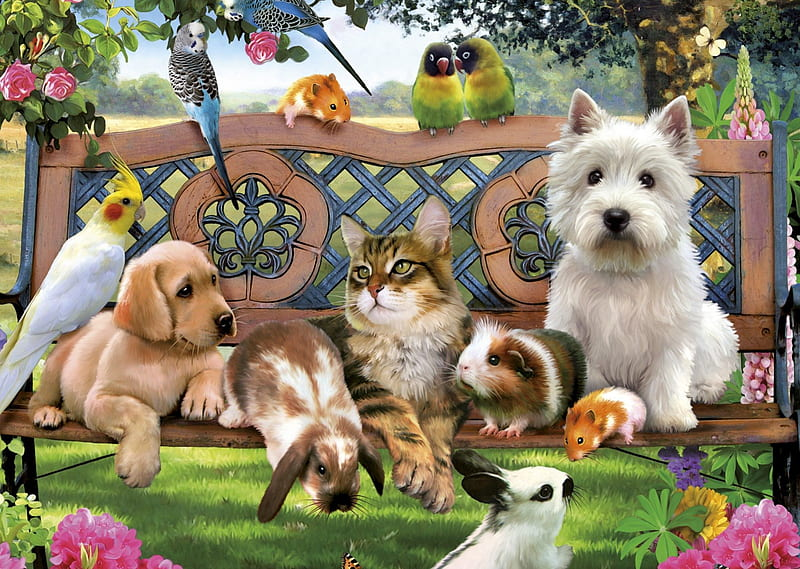cat: (330, 202, 460, 372)
dog: (550, 98, 724, 367), (114, 243, 210, 415)
rabbit: (235, 322, 369, 516)
